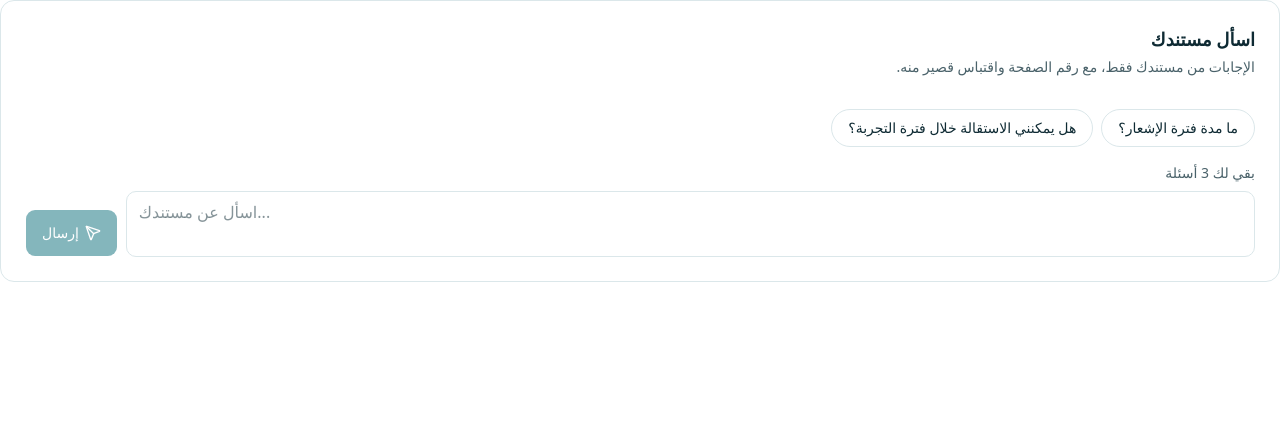
Scenario: shows the answer with its citations (page and quote), and the questions left from the backend
Expected: the text "بقي لك 3 أسئلة" is shown, [1165,163,1255,182]
Type "ما مدة الإشعار؟" into the text box named "سؤالك".
click(690, 224); type("ما مدة الإشعار؟")  # box [126,191,1255,257]
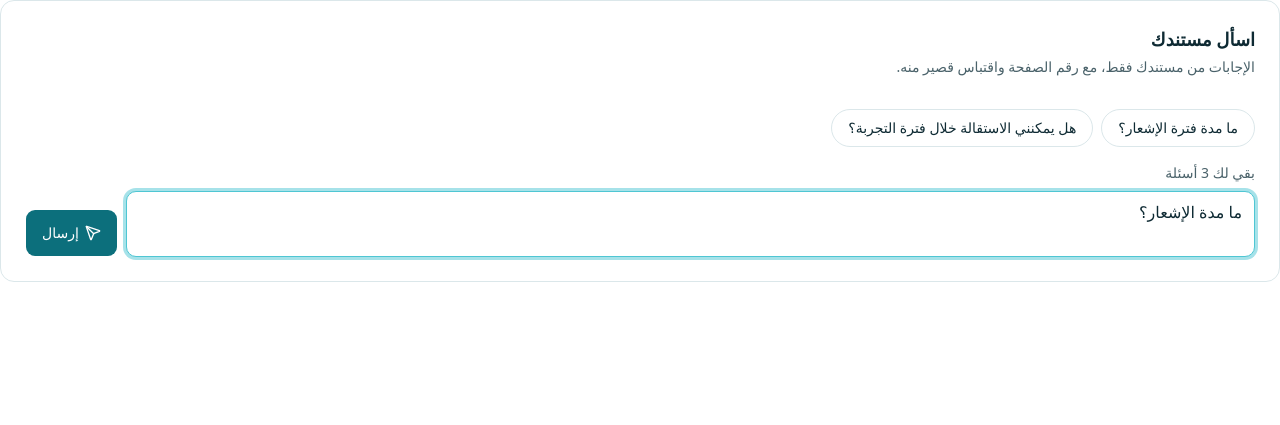
Click the button "إرسال".
click(71, 233)  # box [25,209,118,257]
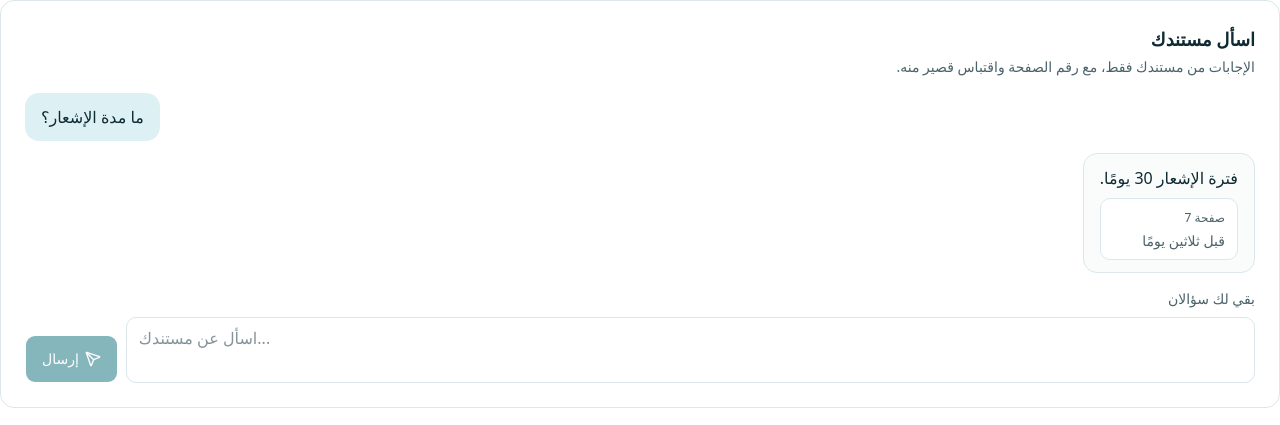
Expected: the text "صفحة 7" is shown, [1185,209,1225,226]
Expected: the text "قبل ثلاثين يومًا" is shown, [1142,231,1225,250]
Expected: the text "بقي لك سؤالان" is shown, [1168,289,1255,308]
